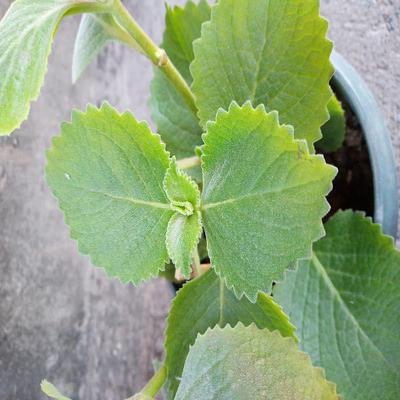Oregano: (42, 29, 373, 335)
